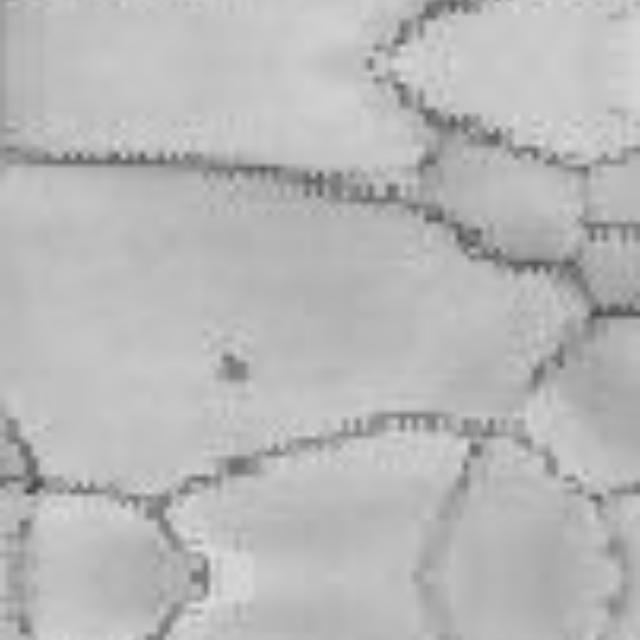good_void: (214, 347, 256, 390)
